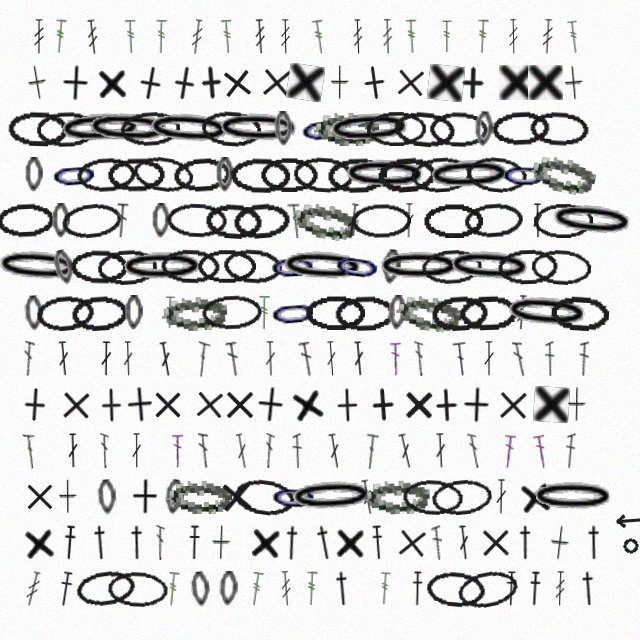chain: (547, 199, 637, 242), (502, 292, 592, 333), (144, 109, 234, 149), (56, 109, 145, 148), (84, 109, 173, 148), (325, 109, 414, 148), (278, 247, 367, 286), (445, 247, 534, 286), (287, 477, 376, 516), (0, 246, 83, 287), (425, 156, 514, 194), (214, 110, 303, 147), (528, 151, 598, 198), (341, 156, 429, 193), (118, 249, 206, 285), (529, 479, 617, 515), (375, 249, 463, 284), (291, 199, 360, 243), (455, 566, 521, 612), (395, 292, 463, 334), (131, 153, 195, 196), (74, 567, 138, 610), (60, 200, 124, 242), (232, 476, 296, 518), (465, 154, 528, 195), (392, 109, 456, 149), (161, 294, 228, 332), (430, 477, 493, 517), (425, 569, 487, 609), (410, 155, 473, 194), (364, 478, 430, 515), (35, 293, 96, 333), (200, 109, 262, 148), (292, 155, 354, 194), (463, 201, 525, 240), (222, 247, 284, 286), (96, 248, 159, 286), (376, 155, 437, 194), (119, 110, 181, 148), (530, 248, 592, 286), (107, 570, 169, 608), (232, 201, 292, 240), (529, 110, 590, 148), (172, 156, 233, 194), (421, 248, 482, 286), (549, 294, 610, 332), (402, 478, 463, 516), (497, 248, 559, 285), (76, 156, 136, 194), (204, 202, 264, 240), (70, 294, 130, 332), (430, 294, 490, 332), (314, 111, 379, 146), (167, 479, 232, 514), (7, 110, 68, 147), (166, 202, 227, 239), (160, 248, 221, 285), (201, 294, 262, 331), (297, 108, 350, 150), (491, 110, 551, 147), (458, 294, 518, 331), (36, 111, 97, 147), (334, 295, 395, 331), (331, 246, 384, 287), (429, 111, 489, 147), (230, 157, 290, 193), (327, 157, 387, 193), (351, 203, 411, 239), (366, 111, 427, 146), (107, 157, 166, 193), (70, 249, 129, 285), (423, 203, 483, 238), (533, 203, 593, 238), (305, 295, 365, 330), (0, 202, 56, 239), (260, 157, 319, 192), (197, 249, 256, 284), (49, 156, 100, 194), (268, 294, 319, 332), (268, 248, 318, 285), (269, 479, 319, 515), (500, 157, 549, 193), (51, 248, 77, 286), (381, 249, 402, 285), (164, 479, 185, 515), (190, 571, 211, 607), (474, 111, 494, 147), (24, 295, 44, 331), (97, 479, 117, 515), (274, 111, 293, 146), (388, 295, 407, 330), (219, 571, 238, 606), (25, 157, 43, 192), (216, 157, 234, 192), (52, 203, 70, 238), (152, 203, 170, 238), (125, 295, 143, 330)
double: (396, 433, 415, 469), (298, 341, 316, 377), (452, 341, 470, 377), (233, 433, 251, 469), (157, 341, 174, 377), (194, 341, 211, 377), (225, 341, 242, 377), (326, 433, 343, 469), (362, 433, 379, 469), (359, 479, 376, 515), (345, 203, 361, 239), (22, 433, 38, 469), (533, 433, 549, 469), (287, 203, 302, 238), (56, 341, 71, 376), (512, 341, 526, 377), (502, 433, 516, 469), (115, 203, 129, 238), (21, 341, 35, 376), (352, 341, 366, 376), (467, 433, 481, 468), (457, 525, 471, 560), (264, 341, 277, 376), (325, 341, 338, 376), (434, 433, 447, 468), (431, 525, 444, 560), (403, 203, 415, 238), (100, 341, 112, 376), (122, 341, 134, 376), (483, 341, 495, 376), (67, 433, 79, 468), (263, 433, 275, 468), (495, 479, 507, 514), (532, 203, 543, 238), (390, 341, 401, 376), (414, 341, 425, 376), (131, 433, 142, 468), (172, 433, 183, 468), (198, 433, 209, 468), (292, 433, 303, 468), (565, 433, 576, 468), (545, 341, 555, 376), (579, 341, 589, 376), (155, 525, 165, 560), (100, 433, 109, 468)
half_double: (312, 524, 337, 561), (281, 525, 303, 561), (90, 525, 111, 560), (515, 525, 536, 560), (332, 571, 353, 606), (578, 571, 599, 606), (127, 525, 147, 560), (584, 525, 604, 560), (56, 571, 75, 607), (62, 525, 77, 560), (370, 525, 385, 560), (504, 571, 518, 606), (528, 571, 542, 606), (188, 525, 201, 560), (411, 571, 424, 606)
noise: (613, 512, 640, 529), (621, 536, 640, 556)
single: (130, 63, 170, 103), (164, 63, 204, 103), (289, 384, 327, 425), (286, 63, 325, 102), (355, 63, 394, 102), (218, 64, 256, 102), (427, 64, 465, 102), (393, 524, 431, 562), (193, 64, 230, 101), (258, 64, 295, 101), (392, 64, 429, 101), (16, 386, 53, 423), (191, 386, 228, 423), (364, 386, 401, 423), (533, 386, 570, 423), (218, 478, 255, 515), (518, 478, 553, 516), (22, 524, 57, 562), (455, 65, 491, 101), (58, 387, 94, 423), (93, 387, 129, 423), (329, 387, 365, 423), (428, 387, 464, 423), (495, 387, 531, 423), (249, 524, 283, 561), (499, 65, 534, 100), (528, 65, 563, 100), (150, 387, 185, 422), (222, 387, 257, 422), (401, 387, 436, 422), (22, 479, 57, 514), (478, 525, 513, 560), (96, 65, 129, 101), (334, 525, 367, 560), (255, 386, 285, 423), (125, 386, 154, 423), (61, 65, 89, 101), (462, 387, 490, 423), (131, 479, 158, 514), (26, 64, 49, 101), (549, 525, 571, 561), (564, 65, 584, 101), (212, 525, 231, 560), (331, 65, 349, 100), (568, 387, 586, 422), (59, 479, 77, 514)
treble: (23, 571, 43, 607), (248, 571, 265, 607), (189, 19, 205, 55), (311, 19, 327, 55), (566, 19, 582, 55), (165, 571, 181, 607), (85, 19, 100, 55), (220, 19, 235, 54), (53, 19, 67, 54), (124, 19, 138, 54), (253, 19, 267, 54), (515, 295, 529, 330), (279, 571, 293, 606), (378, 571, 392, 606), (155, 19, 168, 54), (381, 19, 394, 54), (405, 19, 418, 54), (476, 19, 489, 54), (541, 19, 554, 54), (258, 295, 271, 330), (305, 571, 318, 606), (33, 19, 45, 54), (352, 19, 364, 54), (441, 19, 453, 54), (164, 295, 176, 330), (554, 571, 566, 606), (280, 19, 291, 54), (508, 19, 519, 54)
